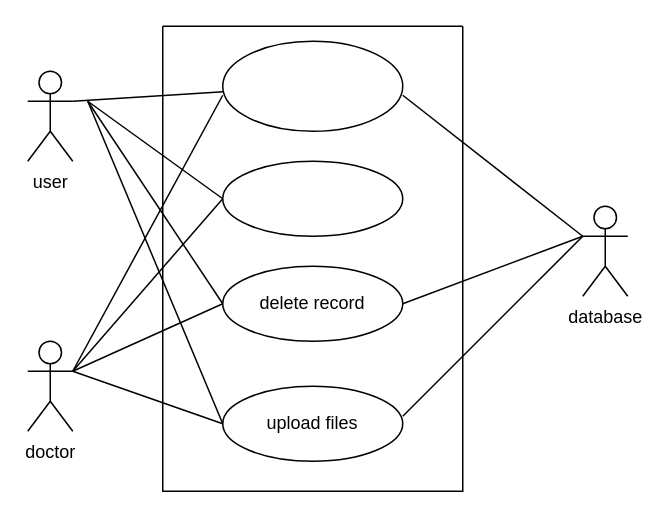
The diagram is 668 pixels wide and 518 high, and some of its shapes have lost their labels. The centre of each missing label's shape, as x and y in pixels:
meeting room: pixel 312 198
scheduled meeting response: pixel 312 85
